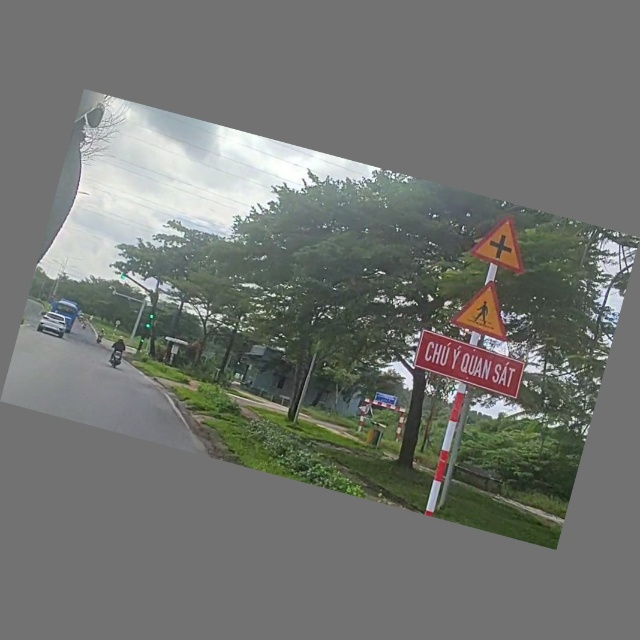W.205a: (465, 206, 544, 280)
W.224: (444, 272, 530, 349)
